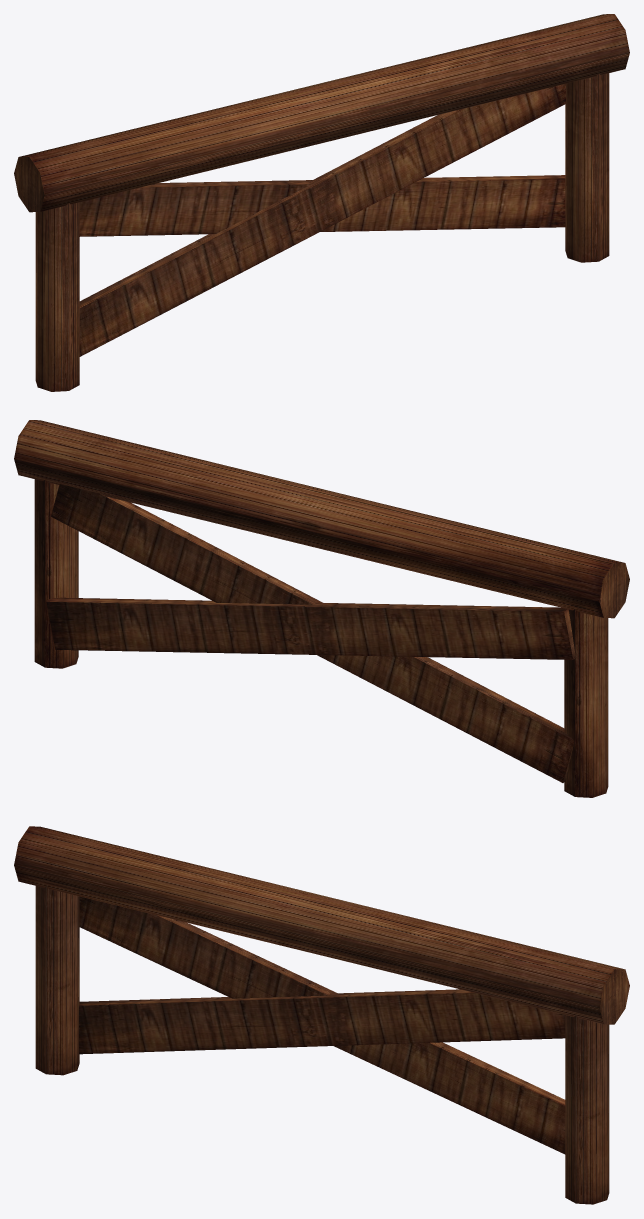
Rendered from Hekkie.FBX.
3 views of the same model, one above another, from view 1: azimuth 30°, elevation 25°; view 2: azimuth 150°, elevation 25°; view 3: azimuth 330°, elevation 25° (orthographic).
Visible parts, largest first — view 1: Hekkie; view 2: Hekkie; view 3: Hekkie.
Boxes of the visible parts, <box> form: Hekkie: <box>14,14,629,391</box>; Hekkie: <box>14,420,629,797</box>; Hekkie: <box>14,826,629,1204</box>.
Size of the model in its own units: 101 by 9.1 by 38.25.
1 material, 1 textured.
